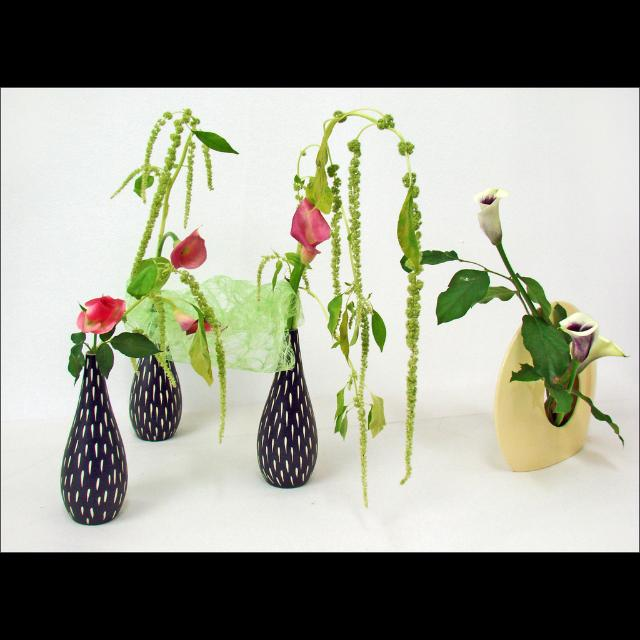Flower: (557, 310, 627, 366), (290, 202, 334, 270), (74, 293, 124, 337), (472, 186, 506, 246), (172, 224, 206, 268)
